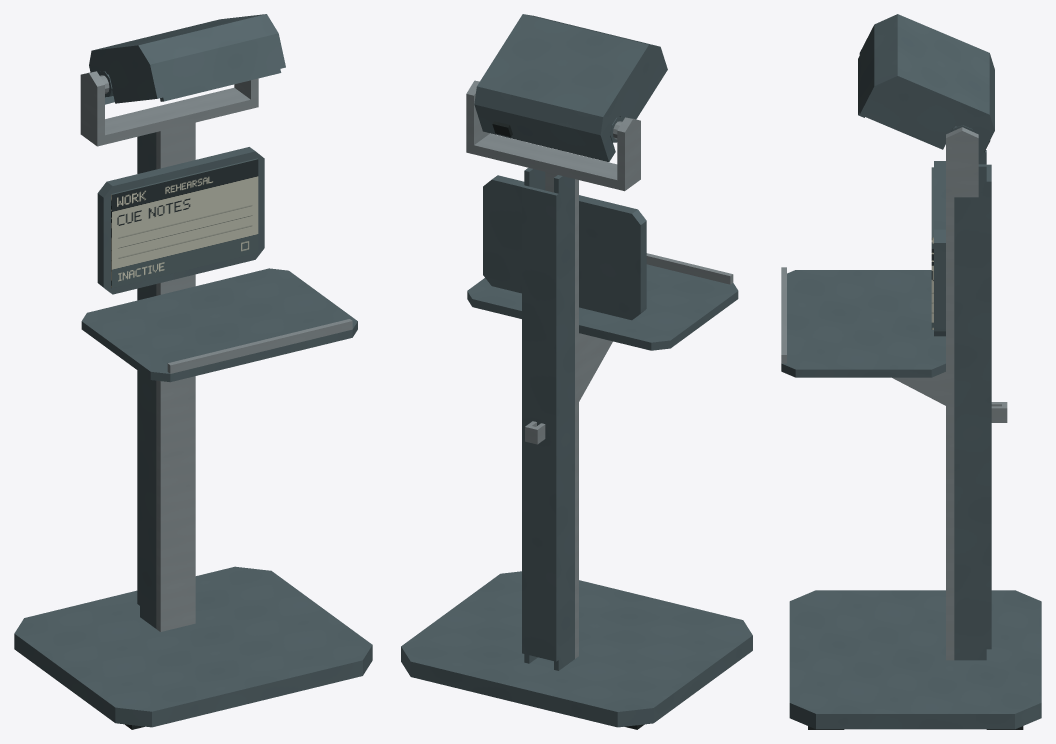
File: AST-CUL-004_aimed.glb
The picture shows the model from 3 angles, left to right: view 1: azimuth 30°, elevation 25°; view 2: azimuth 150°, elevation 25°; view 3: azimuth 270°, elevation 25°; orthographic projection.
Parts seen in each view (by area): view 1: AST-CUL-004__static__staff_bluegrey_paint, AST-CUL-004__static__staff_zinc, AST-CUL-004__static__original_rehearsal_notes, AST-CUL-004__LIGHT_AIM_X__staff_bluegrey_paint, AST-CUL-004__REAR_COVER_REMOVE__staff_bluegrey_paint; view 2: AST-CUL-004__static__staff_bluegrey_paint, AST-CUL-004__LIGHT_AIM_X__staff_bluegrey_paint, AST-CUL-004__REAR_COVER_REMOVE__staff_bluegrey_paint, AST-CUL-004__static__staff_zinc; view 3: AST-CUL-004__static__staff_bluegrey_paint, AST-CUL-004__LIGHT_AIM_X__staff_bluegrey_paint, AST-CUL-004__static__staff_zinc, AST-CUL-004__REAR_COVER_REMOVE__staff_bluegrey_paint, AST-CUL-004__static__original_rehearsal_notes.
Part boxes in pixels (x1,y1,x2,y2): AST-CUL-004__static__staff_bluegrey_paint: (14, 132, 372, 727); AST-CUL-004__static__staff_zinc: (80, 71, 352, 631); AST-CUL-004__static__original_rehearsal_notes: (111, 158, 258, 288); AST-CUL-004__LIGHT_AIM_X__staff_bluegrey_paint: (89, 14, 285, 104); AST-CUL-004__REAR_COVER_REMOVE__staff_bluegrey_paint: (137, 136, 139, 605); AST-CUL-004__static__staff_bluegrey_paint: (401, 168, 752, 727); AST-CUL-004__LIGHT_AIM_X__staff_bluegrey_paint: (474, 14, 667, 161); AST-CUL-004__REAR_COVER_REMOVE__staff_bluegrey_paint: (522, 185, 558, 661); AST-CUL-004__static__staff_zinc: (466, 80, 733, 658); AST-CUL-004__static__staff_bluegrey_paint: (781, 150, 1041, 729); AST-CUL-004__LIGHT_AIM_X__staff_bluegrey_paint: (858, 14, 994, 161); AST-CUL-004__static__staff_zinc: (781, 127, 978, 660); AST-CUL-004__REAR_COVER_REMOVE__staff_bluegrey_paint: (986, 164, 991, 649); AST-CUL-004__static__original_rehearsal_notes: (931, 167, 933, 329).
Bounding box in the file's own units: 0.72 × 1.71 × 0.64.
5 materials, 5 textured.
